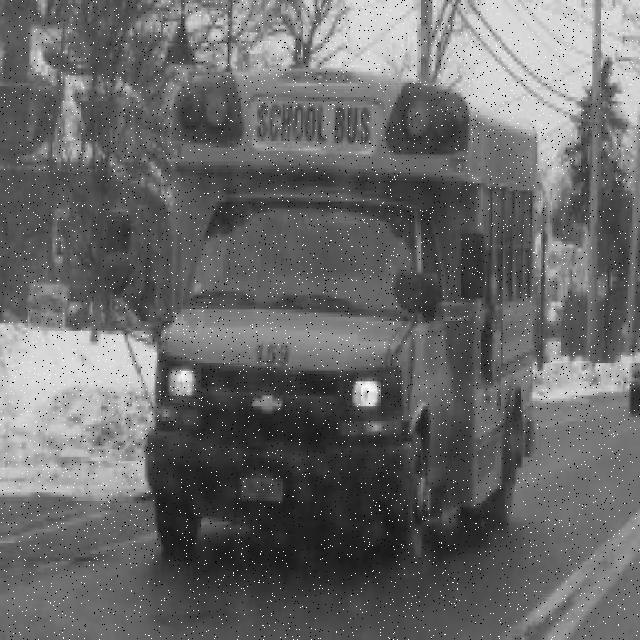Bus- Small: (101, 68, 543, 569)
